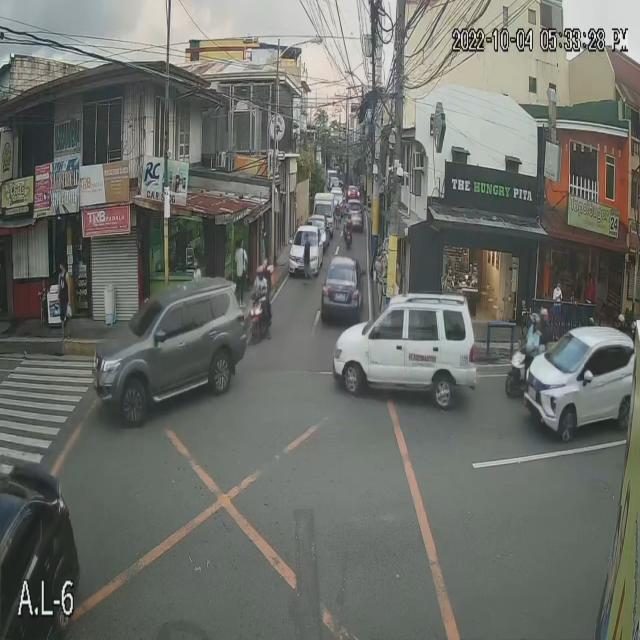half: (530, 311, 540, 333), (540, 306, 550, 326)
